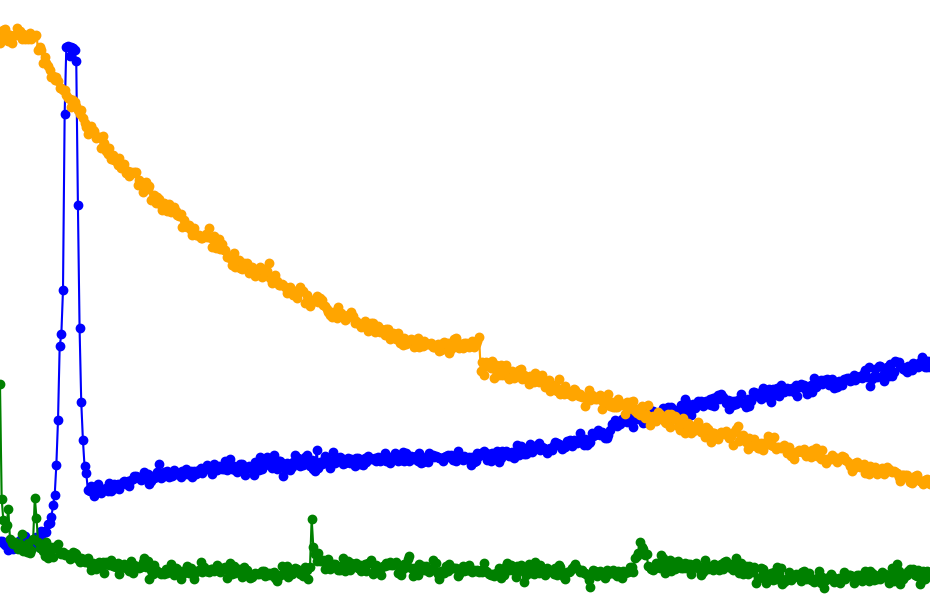CO2 Problem: (397, 0, 676, 616), (676, 0, 930, 616), (119, 0, 278, 616), (397, 0, 517, 616), (278, 0, 397, 616), (835, 0, 930, 616)
Condensation (CO2): (119, 0, 278, 616), (397, 0, 517, 616), (119, 0, 238, 616), (278, 0, 397, 616), (39, 0, 119, 616), (39, 0, 79, 616)
Low O2: (596, 0, 930, 616), (676, 0, 930, 616), (716, 0, 930, 616), (795, 0, 930, 616), (835, 0, 930, 616)
Normal: (278, 0, 930, 616), (517, 0, 930, 616), (0, 0, 397, 616), (596, 0, 930, 616), (397, 0, 676, 616), (0, 0, 278, 616), (119, 0, 397, 616), (676, 0, 930, 616), (397, 0, 636, 616), (716, 0, 930, 616), (397, 0, 596, 616), (755, 0, 930, 616), (119, 0, 278, 616), (795, 0, 930, 616), (397, 0, 517, 616), (0, 0, 119, 616), (119, 0, 238, 616), (278, 0, 397, 616), (835, 0, 930, 616), (0, 0, 79, 616), (676, 0, 755, 616), (39, 0, 79, 616), (79, 0, 119, 616)
O2 Problem: (397, 0, 930, 616), (755, 0, 930, 616), (119, 0, 278, 616), (397, 0, 517, 616), (278, 0, 397, 616)
